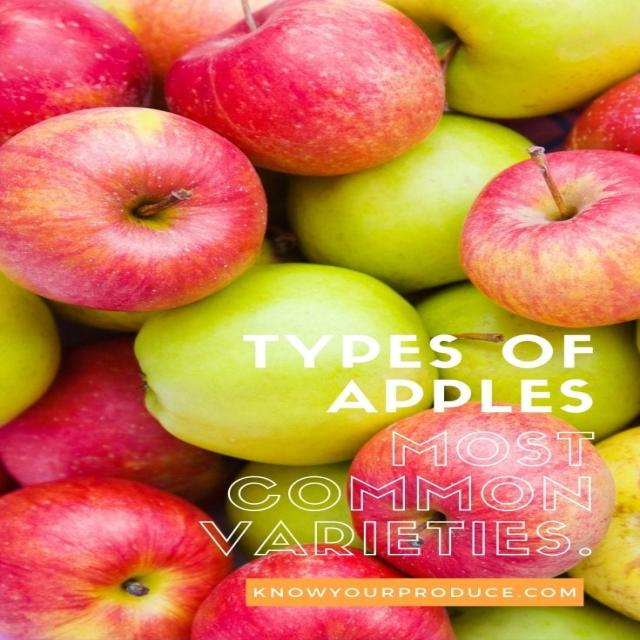Green Apple: (1, 261, 64, 431)
Red Apple: (1, 107, 269, 316), (2, 478, 232, 640), (456, 151, 640, 327)
